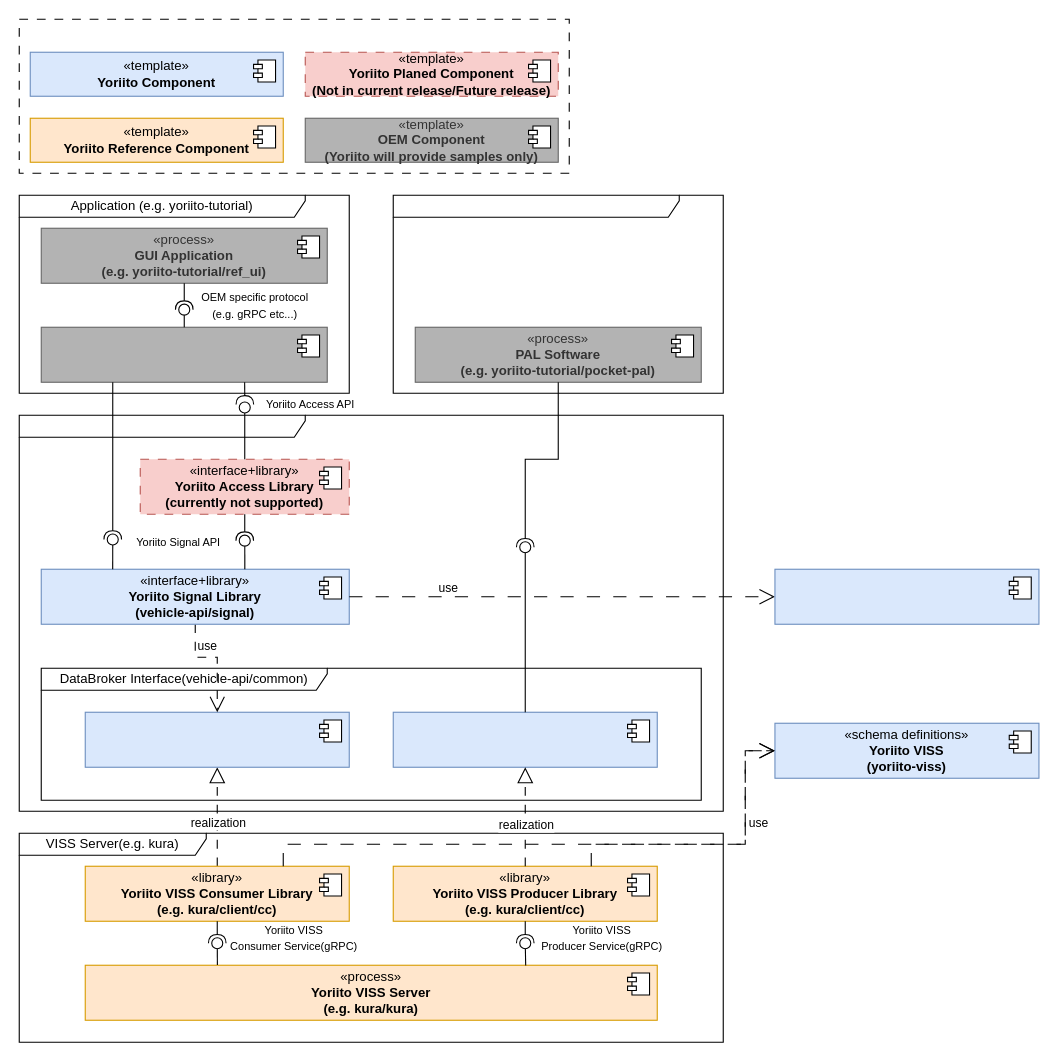
The diagram is 1058 pixels wide and 1062 high, and some of its shapes have lost their labels. Each missing label, with the box of its shape:
Legends:: (18, 18, 569, 173)
Platform (e.g. yoriito-tutorial): (392, 194, 723, 393)
Vehicle API (vehicle-api): (18, 414, 723, 811)
«data definitions» Yoriito VSS (yoriito-vss): (774, 568, 1039, 624)
«interface» DataBroker Consumer API (vehicle-api/common/databroker): (84, 711, 349, 767)
«interface» DataBroker Producer API (vehicle-api/common/databroker): (392, 711, 657, 767)
«process» Headless Application (e.g. yoriito-tutorial/ref_app): (40, 326, 327, 382)
